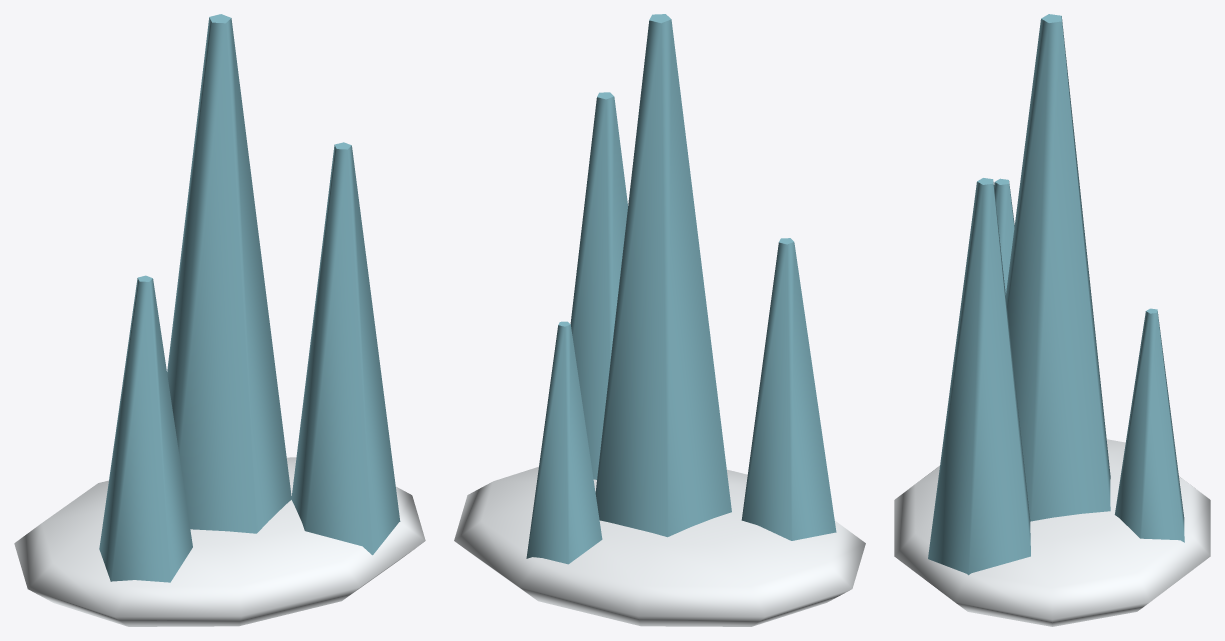
The model's file is alpine-snow-village-ice-crystal-cluster-60875060.glb.
3 views of the same model, side by side, from view 1: azimuth 30°, elevation 25°; view 2: azimuth 150°, elevation 25°; view 3: azimuth 270°, elevation 25° (orthographic). The views are drawn at different scales.
Visible parts, largest first — view 1: ice-crystal-cluster-ice, ice-crystal-cluster-snow; view 2: ice-crystal-cluster-ice, ice-crystal-cluster-snow; view 3: ice-crystal-cluster-ice, ice-crystal-cluster-snow.
Boxes of the visible parts, x1,y1,x2,y2 form: ice-crystal-cluster-ice: [99, 14, 400, 582]; ice-crystal-cluster-snow: [14, 457, 425, 626]; ice-crystal-cluster-ice: [526, 14, 836, 564]; ice-crystal-cluster-snow: [454, 466, 865, 626]; ice-crystal-cluster-ice: [928, 14, 1184, 575]; ice-crystal-cluster-snow: [894, 439, 1210, 626].
Size of the model in its own units: 1.3 by 1.82 by 0.951.
